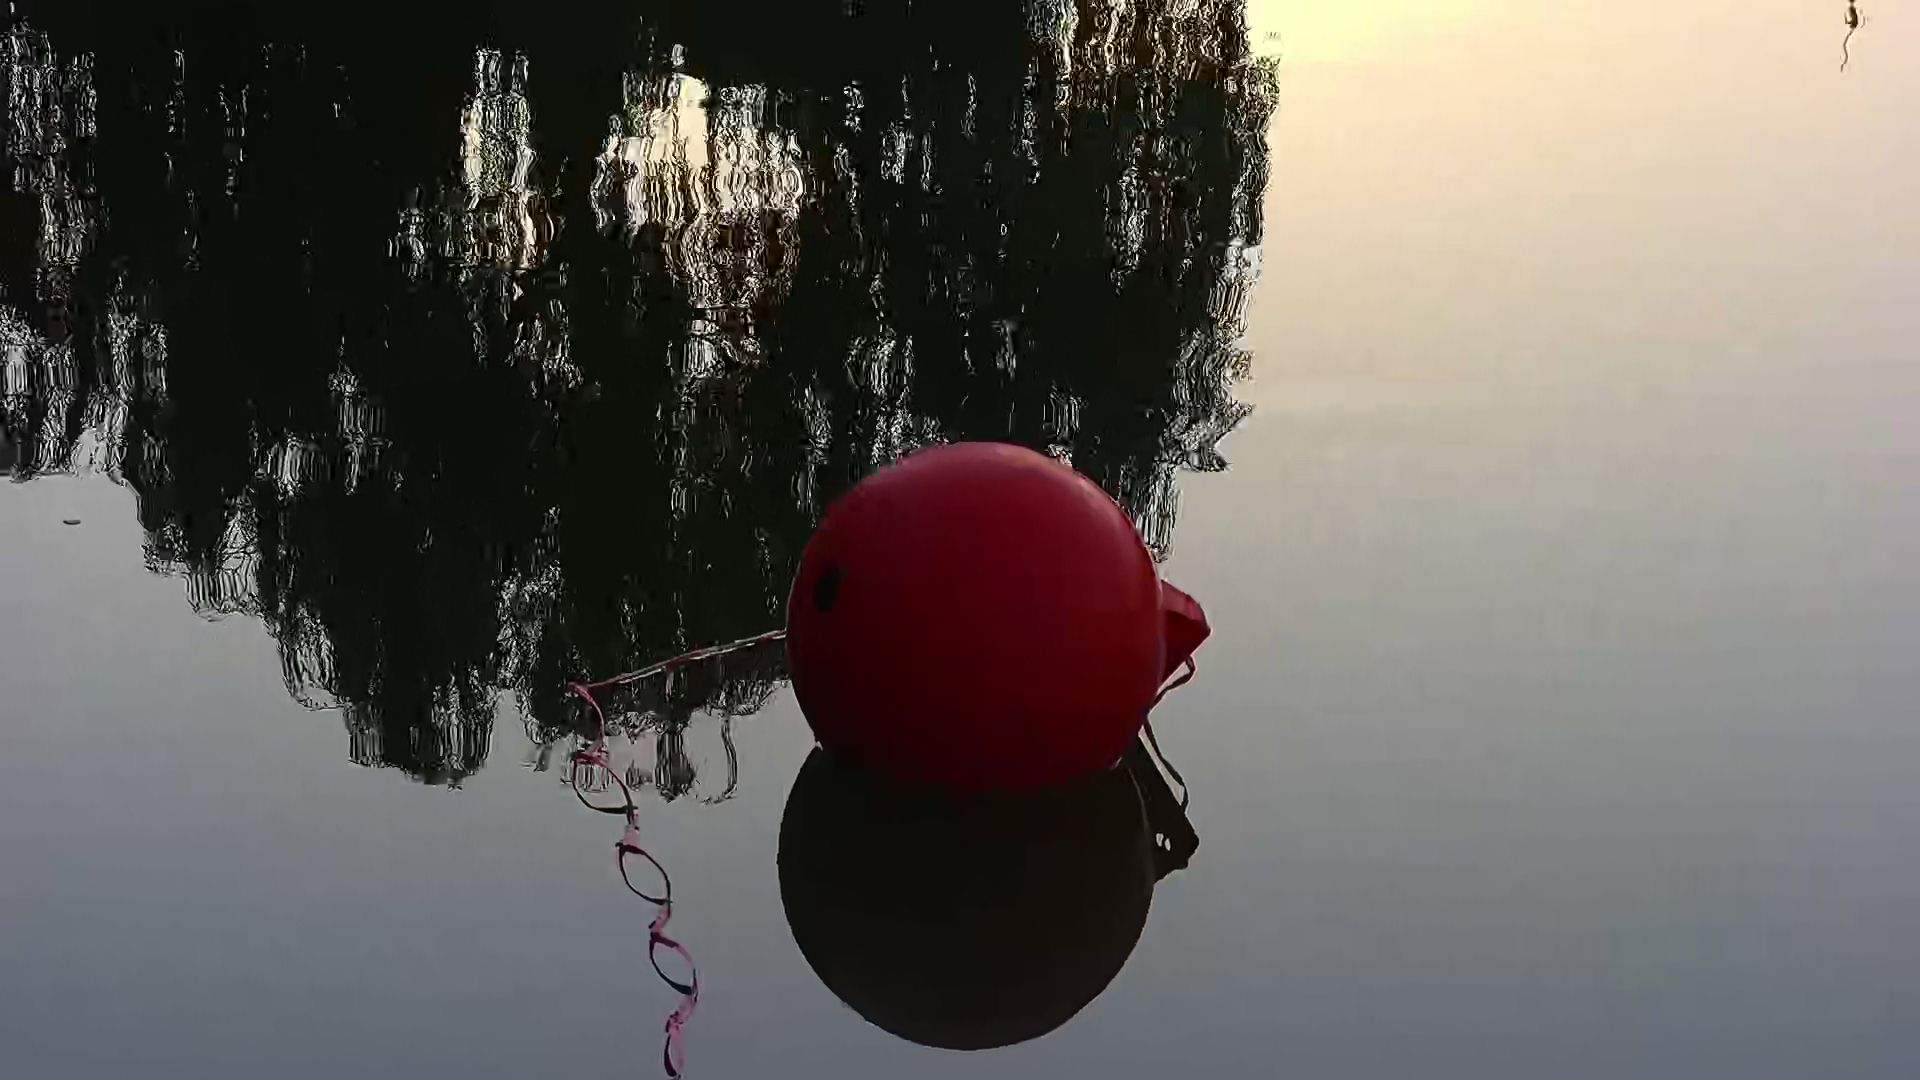ball: (785, 440, 1212, 812)
